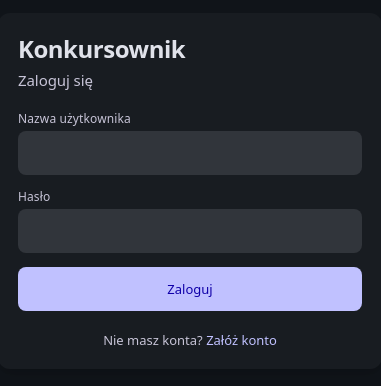
Test: LoginPage › login with username
In the field labelled "Nazwa użytkownika": (190, 153) [18, 131, 362, 175], type "ania"
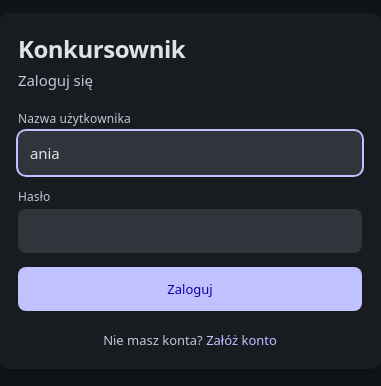
In the password field labelled "Hasło": (190, 231) [18, 209, 362, 253], type "haslo1234"
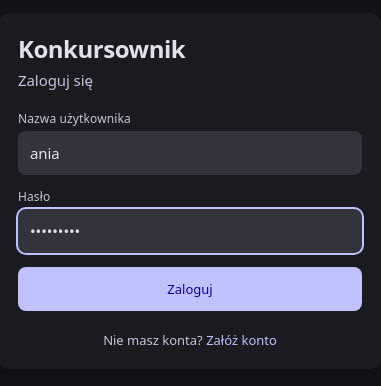
Click the button "Zaloguj": click(190, 289) [18, 267, 362, 311]
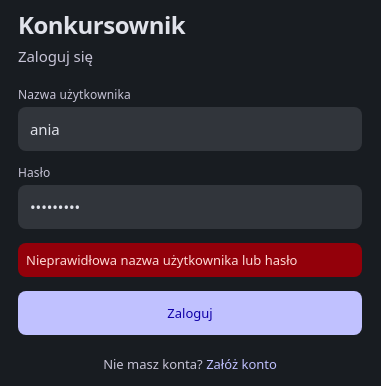
Now the text "Nieprawidłowa nazwa użytkownika lub hasło" is shown, box [18, 243, 362, 277]
